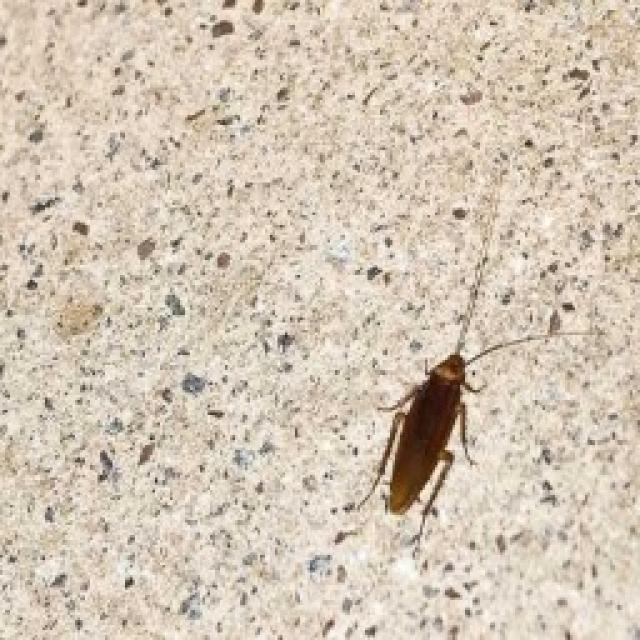cockroach: (374, 353, 472, 520)
